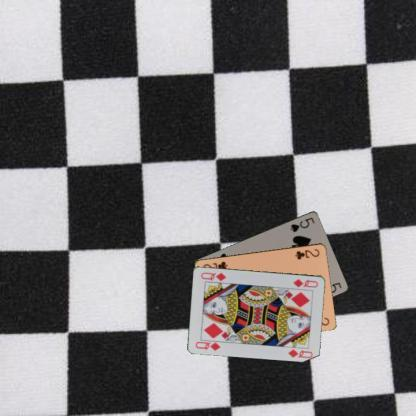2c: (294, 246, 321, 261)
5s: (288, 214, 316, 233)
Qd: (193, 337, 224, 352), (290, 276, 320, 289)
